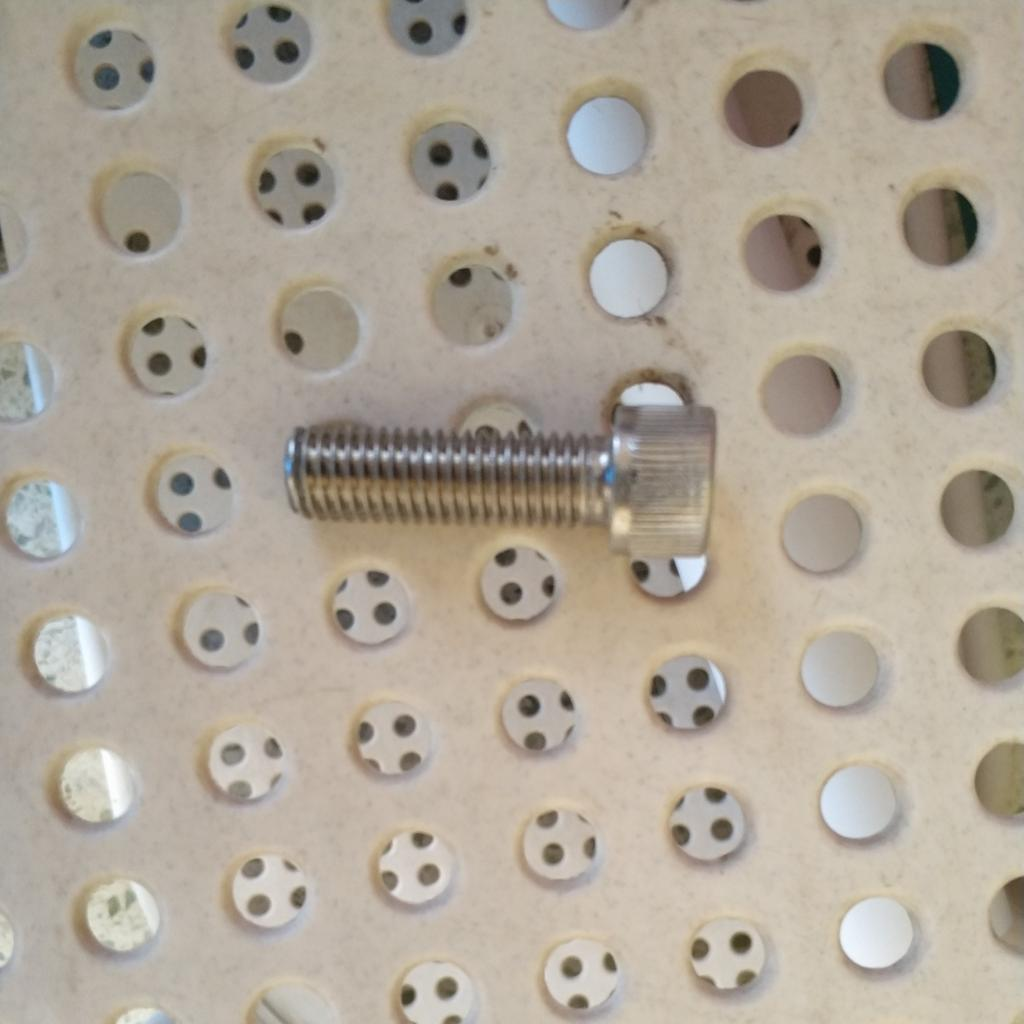screwtype1silver: (285, 394, 717, 577)
